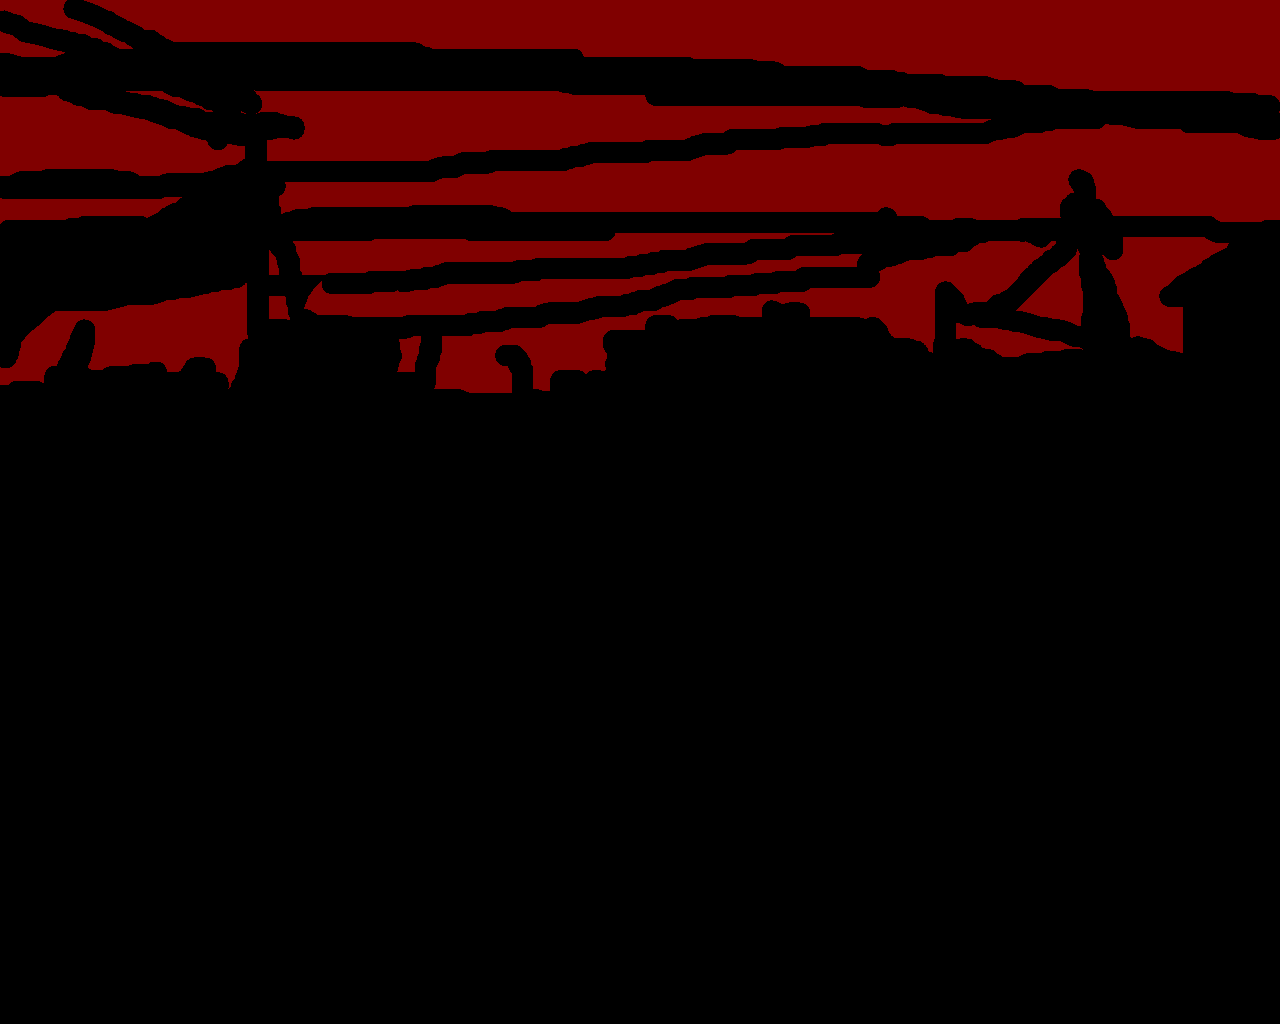Sky: (1, 1, 1279, 393)
